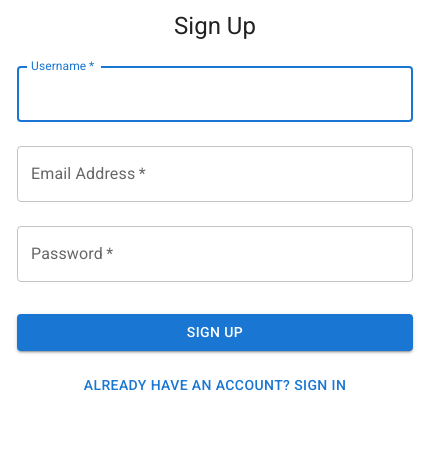
Test: RegistrationPage › shows validation errors for empty fields
The width and height of the screenshot is (431, 476).
Click the button "Sign Up" at (215, 332), box [17,314,413,350]
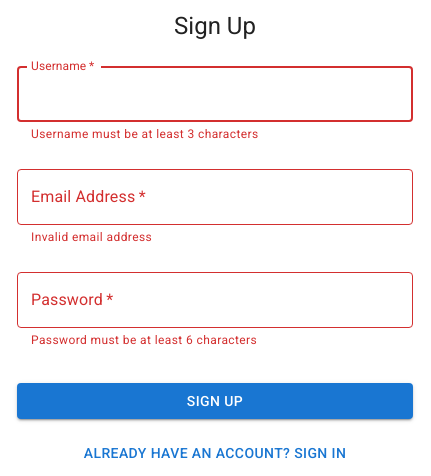
Expected: the text "Invalid email address" is shown, [31,230,152,244]
Expected: the text "Password must be at least 6 characters" is shown, [31,333,257,347]
